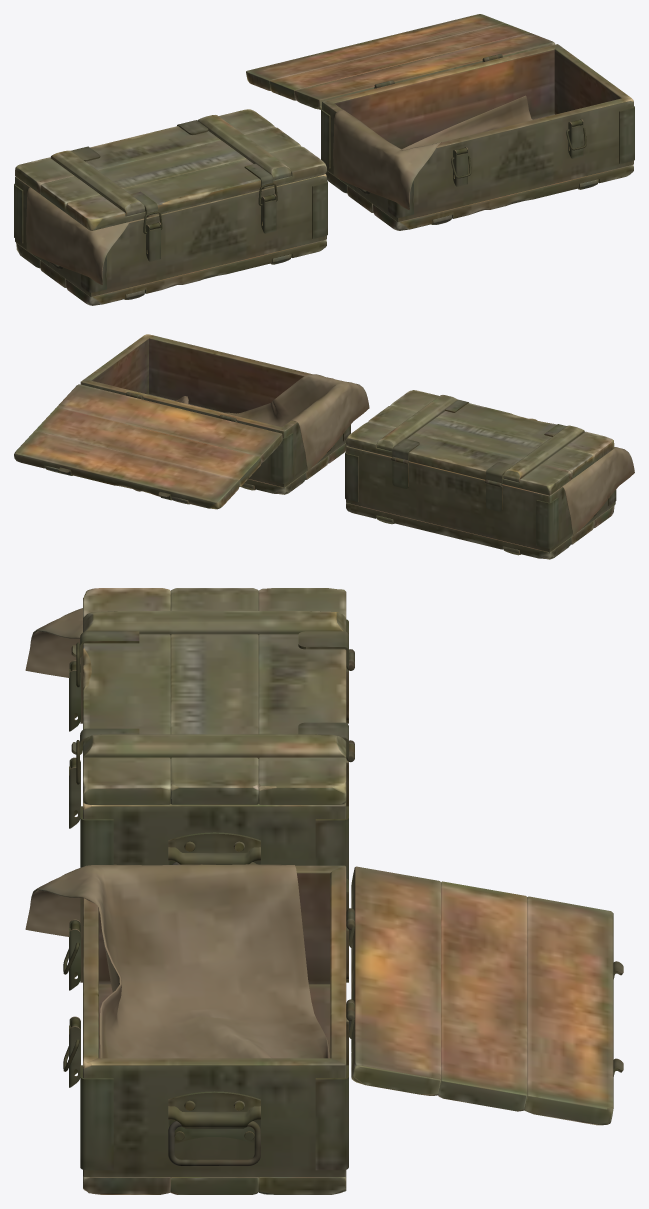
Rendered from military_crate.glb.
3 views of the same model, one above another, from view 1: azimuth 30°, elevation 25°; view 2: azimuth 150°, elevation 25°; view 3: azimuth 270°, elevation 25° (orthographic). The views are drawn at different scales.
Parts seen in each view (by area): view 1: old_military_crate_b, old_military_crate_lid_a, old_military_crate_a, old_military_crate_lid_b, old_military_crate_cloth_b, old_military_crate_cloth_a, old_military_crate_latch_a, old_military_crate_latch_b; view 2: old_military_crate_lid_b, old_military_crate_lid_a, old_military_crate_a, old_military_crate_b, old_military_crate_cloth_b, old_military_crate_cloth_a; view 3: old_military_crate_lid_a, old_military_crate_lid_b, old_military_crate_b, old_military_crate_cloth_b, old_military_crate_a, old_military_crate_cloth_a, old_military_crate_latch_b, old_military_crate_latch_a.
Boxes of the visible parts, <box> form: old_military_crate_b: <box>321,44,634,230</box>; old_military_crate_lid_a: <box>15,109,326,230</box>; old_military_crate_a: <box>14,174,327,305</box>; old_military_crate_lid_b: <box>246,14,555,109</box>; old_military_crate_cloth_b: <box>333,95,532,209</box>; old_military_crate_cloth_a: <box>26,187,129,284</box>; old_military_crate_latch_a: <box>146,194,276,261</box>; old_military_crate_latch_b: <box>453,119,583,186</box>; old_military_crate_lid_b: <box>14,384,282,509</box>; old_military_crate_lid_a: <box>346,390,614,495</box>; old_military_crate_a: <box>345,446,616,559</box>; old_military_crate_b: <box>80,334,350,494</box>; old_military_crate_cloth_b: <box>174,374,369,470</box>; old_military_crate_cloth_a: <box>562,447,634,535</box>; old_military_crate_lid_a: <box>71,588,354,804</box>; old_military_crate_lid_b: <box>346,866,623,1125</box>; old_military_crate_b: <box>80,865,354,1194</box>; old_military_crate_cloth_b: <box>25,864,329,1058</box>; old_military_crate_a: <box>80,619,354,879</box>; old_military_crate_cloth_a: <box>25,608,82,677</box>; old_military_crate_latch_b: <box>69,919,80,1087</box>; old_military_crate_latch_a: <box>69,660,80,828</box>.
Bounding box in the file's own units: 1.82 × 0.3009 × 0.9757.
1 material, 1 textured.
